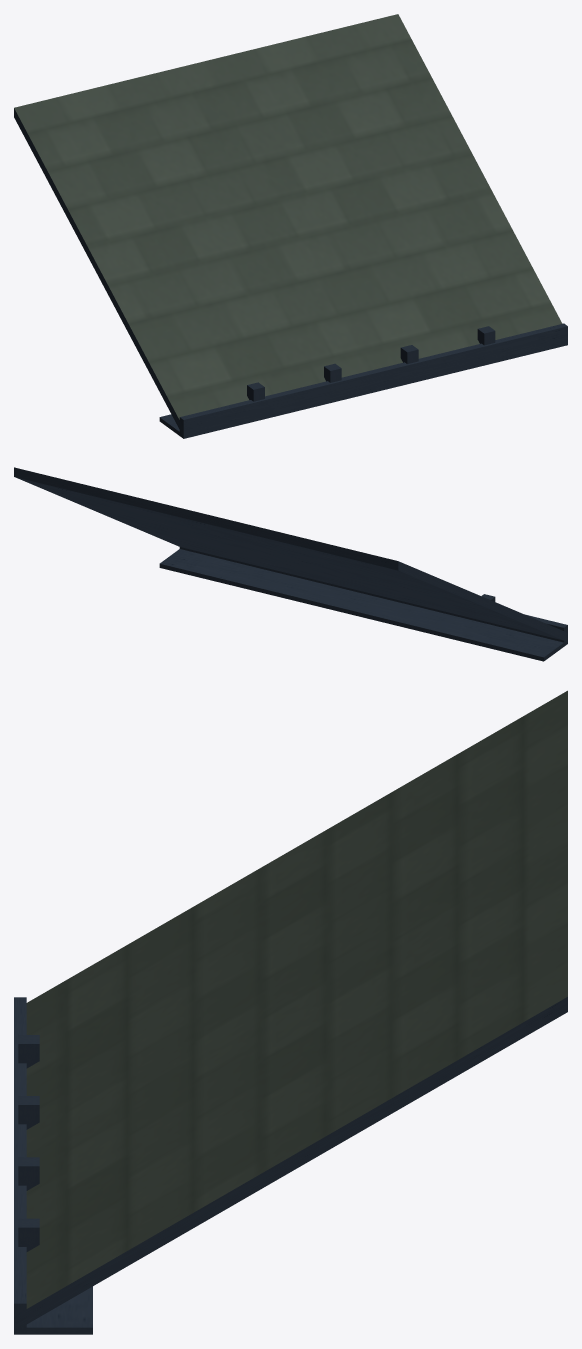
The model's file is house_05_roof_slope.glb.
3 renders of one model, top to bottom at view 1: azimuth 30°, elevation 25°; view 2: azimuth 150°, elevation 25°; view 3: azimuth 270°, elevation 25°, orthographic. The views are drawn at different scales.
Visible parts, largest first — view 1: outdoor_house_05_roof_slope; view 2: outdoor_house_05_roof_slope; view 3: outdoor_house_05_roof_slope.
Part boxes in pixels (left/top/right/bottom): outdoor_house_05_roof_slope: left=14, top=14, right=567, bottom=438; outdoor_house_05_roof_slope: left=14, top=467, right=567, bottom=661; outdoor_house_05_roof_slope: left=14, top=690, right=567, bottom=1334.
Size of the model in its own units: 3.4 by 1.75 by 2.6.
Materials: 1 (1 with a texture image).
